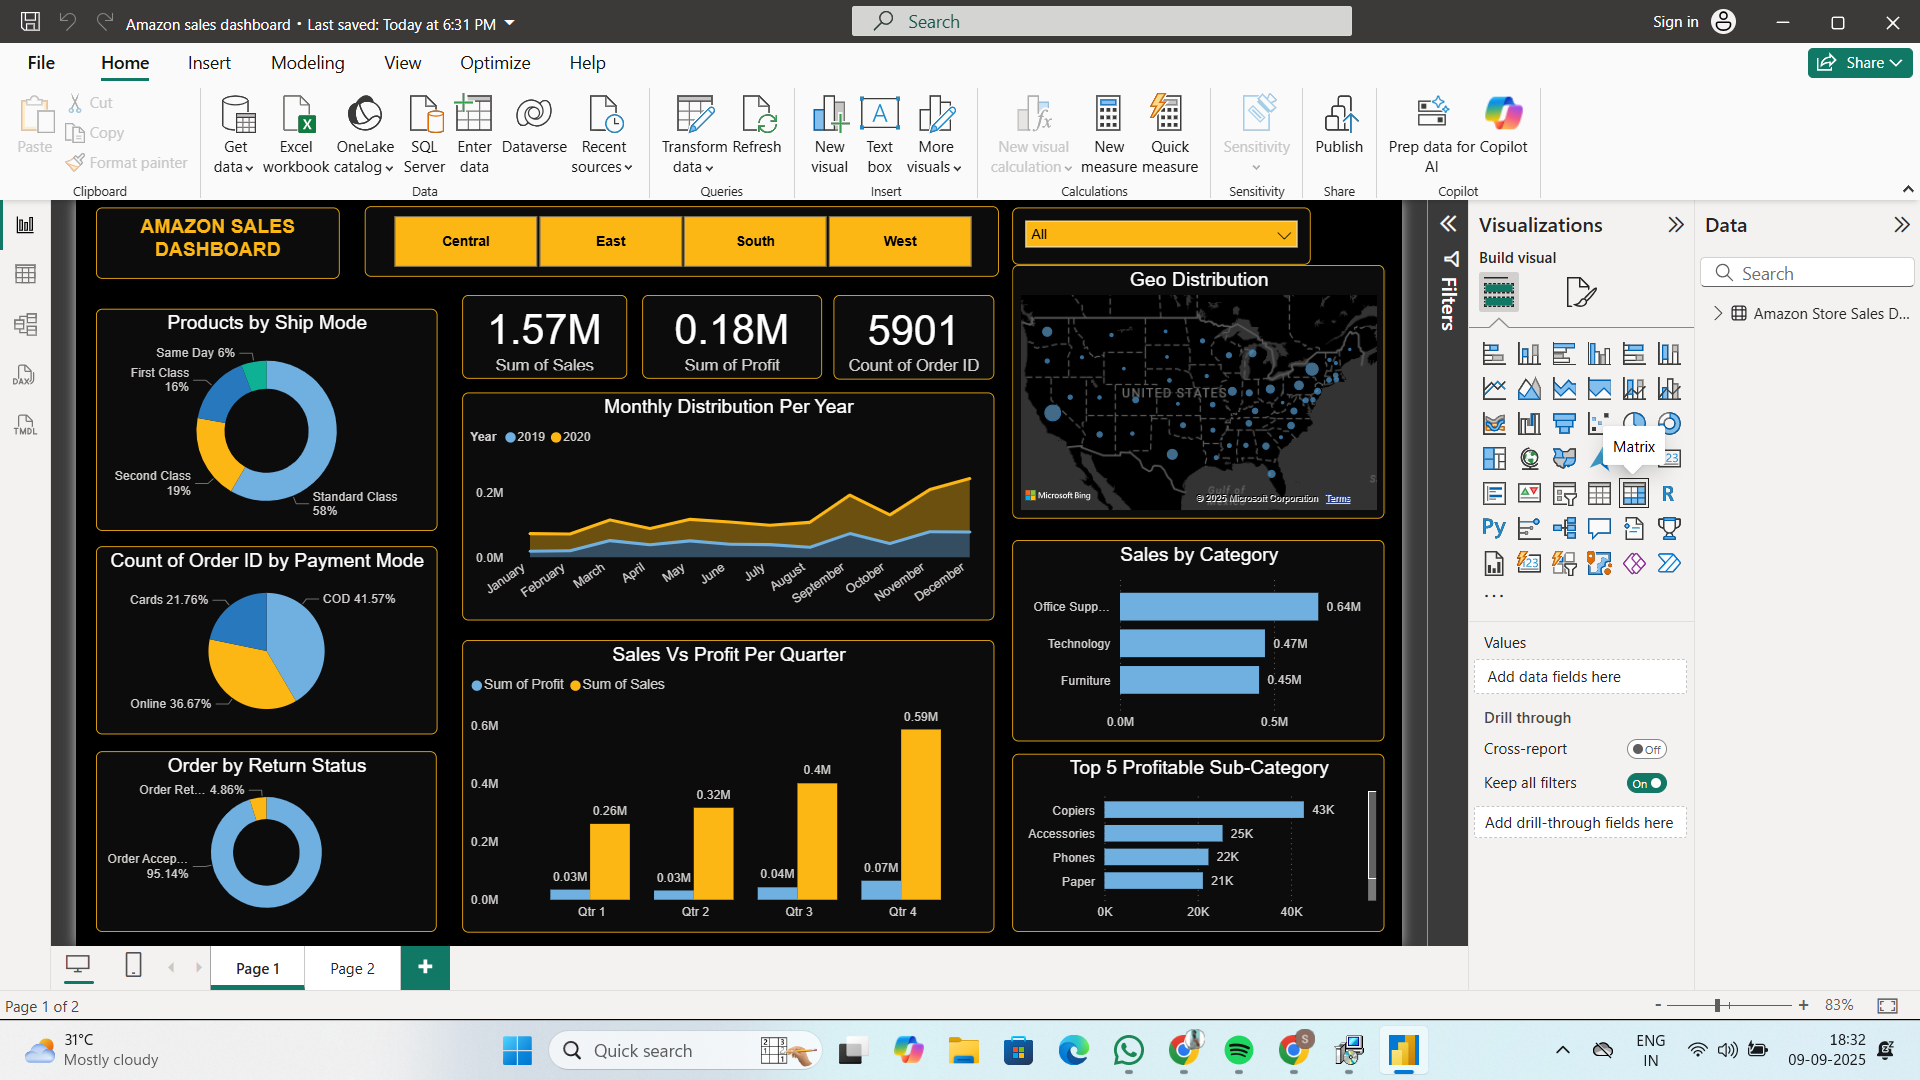

What the dashboard file says about the page in this screenshot:
{"tool":"powerbi","page":{"name":"Page 1","canvas":[1280,720],"ordinal":0},"visuals":[{"type":"clusteredBarChart","title":"Sales by Category","fields":{"Category":["Amazon Store Sales Data xlsx - Sheet1 (1).Category"],"Y":["Sum(Amazon Store Sales Data xlsx - Sheet1 (1).Sales)"]},"box":[903.5,327.7,359.5,194.1],"z":0},{"type":"clusteredBarChart","title":"Top 5 Profitable Sub-Category","fields":{"Category":["Amazon Store Sales Data xlsx - Sheet1 (1).Sub-Category"],"Y":["Sum(Amazon Store Sales Data xlsx - Sheet1 (1).Profit)"]},"box":[903.5,534.4,359.5,171.8],"z":1000},{"type":"donutChart","title":"Products by Ship Mode","fields":{"Category":["Amazon Store Sales Data xlsx - Sheet1 (1).Ship Mode"],"Y":["CountNonNull(Amazon Store Sales Data xlsx - Sheet1 (1).Product ID)"]},"box":[19.1,105,329.3,214.7],"z":2000},{"type":"pieChart","fields":{"Category":["Amazon Store Sales Data xlsx - Sheet1 (1).Payment Mode"],"Y":["CountNonNull(Amazon Store Sales Data xlsx - Sheet1 (1).Order ID)"]},"box":[19.1,334,329.3,181.3],"z":3000},{"type":"donutChart","title":"Order by Return Status","fields":{"Category":["Amazon Store Sales Data xlsx - Sheet1 (1).Return Status"],"Y":["CountNonNull(Amazon Store Sales Data xlsx - Sheet1 (1).Order ID)"]},"box":[18.9,532.2,328.9,174.4],"z":4000},{"type":"stackedAreaChart","title":"Monthly Distribution Per Year","fields":{"Category":["Amazon Store Sales Data xlsx - Sheet1 (1).Order Date.Variation.Date Hierarchy.Month"],"Y":["Sum(Amazon Store Sales Data xlsx - Sheet1 (1).Sales)"],"Series":["Amazon Store Sales Data xlsx - Sheet1 (1).Order Date.Variation.Date Hierarchy.Year"]},"box":[373.3,185.6,513.3,220],"z":5000},{"type":"clusteredColumnChart","title":"Sales Vs Profit Per Quarter","fields":{"Category":["Amazon Store Sales Data xlsx - Sheet1 (1).Order Date.Variation.Date Hierarchy.Quarter"],"Y":["Sum(Amazon Store Sales Data xlsx - Sheet1 (1).Profit)","Sum(Amazon Store Sales Data xlsx - Sheet1 (1).Sales)"]},"box":[373.3,424.4,513.3,282.2],"z":6000},{"type":"map","title":"Geo Distribution","fields":{"Category":["Amazon Store Sales Data xlsx - Sheet1 (1).State"],"Size":["Sum(Amazon Store Sales Data xlsx - Sheet1 (1).Sales)"]},"box":[903.6,62.7,359.5,244.9],"z":7000},{"type":"slicer","fields":{"Values":["Amazon Store Sales Data xlsx - Sheet1 (1).Region"]},"box":[278.4,6.4,612.4,68.4],"z":8000},{"type":"slicer","fields":{"Values":["Amazon Store Sales Data xlsx - Sheet1 (1).State"]},"box":[903.3,6.7,287.8,55.6],"z":9000},{"type":"textbox","box":[18.9,6.7,235.6,68.9],"z":10000},{"type":"card","fields":{"Values":["Sum(Amazon Store Sales Data xlsx - Sheet1 (1).Sales)"]},"box":[373.3,91.1,158.9,81.1],"z":11000},{"type":"card","fields":{"Values":["Sum(Amazon Store Sales Data xlsx - Sheet1 (1).Profit)"]},"box":[546.7,92.2,173.3,81.1],"z":12000},{"type":"card","fields":{"Values":["CountNonNull(Amazon Store Sales Data xlsx - Sheet1 (1).Order ID)"]},"box":[731.7,91.7,155,81.7],"z":13000}]}

Visuals, with their boxes on the page's 1280x720 design canvas (x1, y1, x2, y2). These are canvas units, not pixel positions in the 1920x1080 screenshot, which may show the page scaled, cropped or inside an application window:
"Sales by Category" clusteredBarChart: (904,328,1263,522)
"Top 5 Profitable Sub-Category" clusteredBarChart: (904,534,1263,706)
"Products by Ship Mode" donutChart: (19,105,348,320)
pieChart - Amazon Store Sales Data xlsx - Sheet1 (1).Payment Mode x CountNonNull(Amazon Store Sales Data xlsx - Sheet1 (1).Order ID): (19,334,348,515)
"Order by Return Status" donutChart: (19,532,348,707)
"Monthly Distribution Per Year" stackedAreaChart: (373,186,887,406)
"Sales Vs Profit Per Quarter" clusteredColumnChart: (373,424,887,707)
"Geo Distribution" map: (904,63,1263,308)
slicer - Amazon Store Sales Data xlsx - Sheet1 (1).Region: (278,6,891,75)
slicer - Amazon Store Sales Data xlsx - Sheet1 (1).State: (903,7,1191,62)
textbox: (19,7,254,76)
card - Sum(Amazon Store Sales Data xlsx - Sheet1 (1).Sales): (373,91,532,172)
card - Sum(Amazon Store Sales Data xlsx - Sheet1 (1).Profit): (547,92,720,173)
card - CountNonNull(Amazon Store Sales Data xlsx - Sheet1 (1).Order ID): (732,92,887,173)
